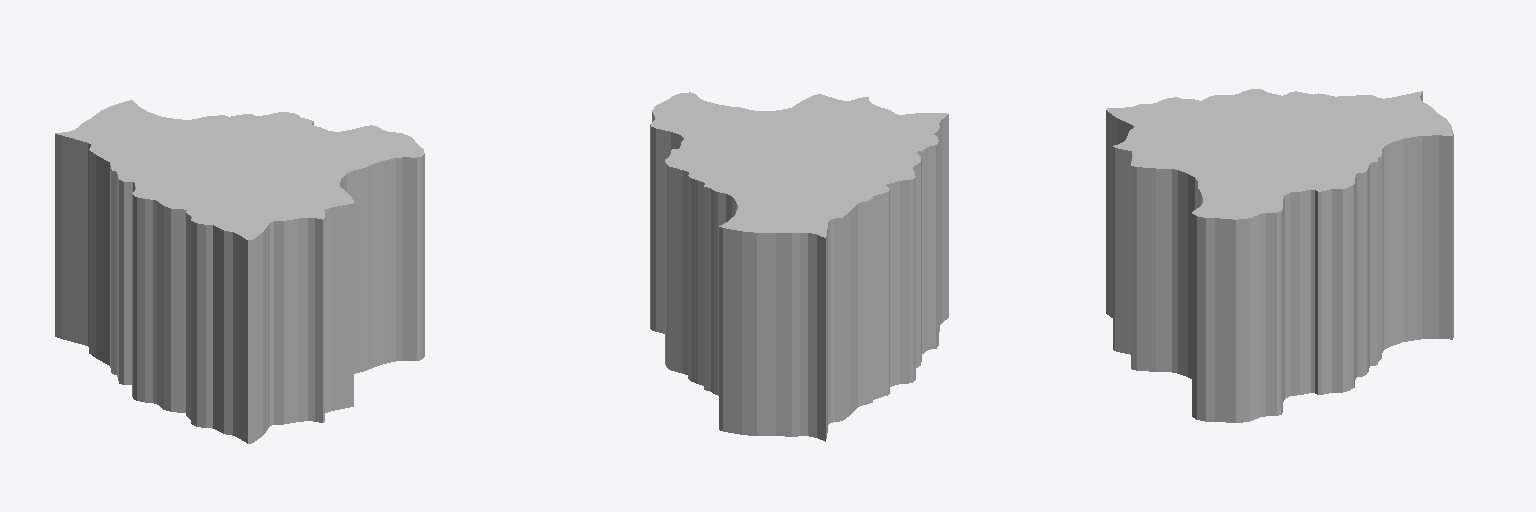
3 views of the same model, side by side, from view 1: azimuth 30°, elevation 25°; view 2: azimuth 150°, elevation 25°; view 3: azimuth 270°, elevation 25° (orthographic).
Parts seen in each view (by area): view 1: BO.002_CUCurve.1774; view 2: BO.002_CUCurve.1774; view 3: BO.002_CUCurve.1774.
Boxes of the visible parts, <box> form: BO.002_CUCurve.1774: <box>55,100,424,443</box>; BO.002_CUCurve.1774: <box>650,92,948,441</box>; BO.002_CUCurve.1774: <box>1106,89,1453,422</box>.
Size of the model in its own units: 0.069 by 0.05 by 0.0774.